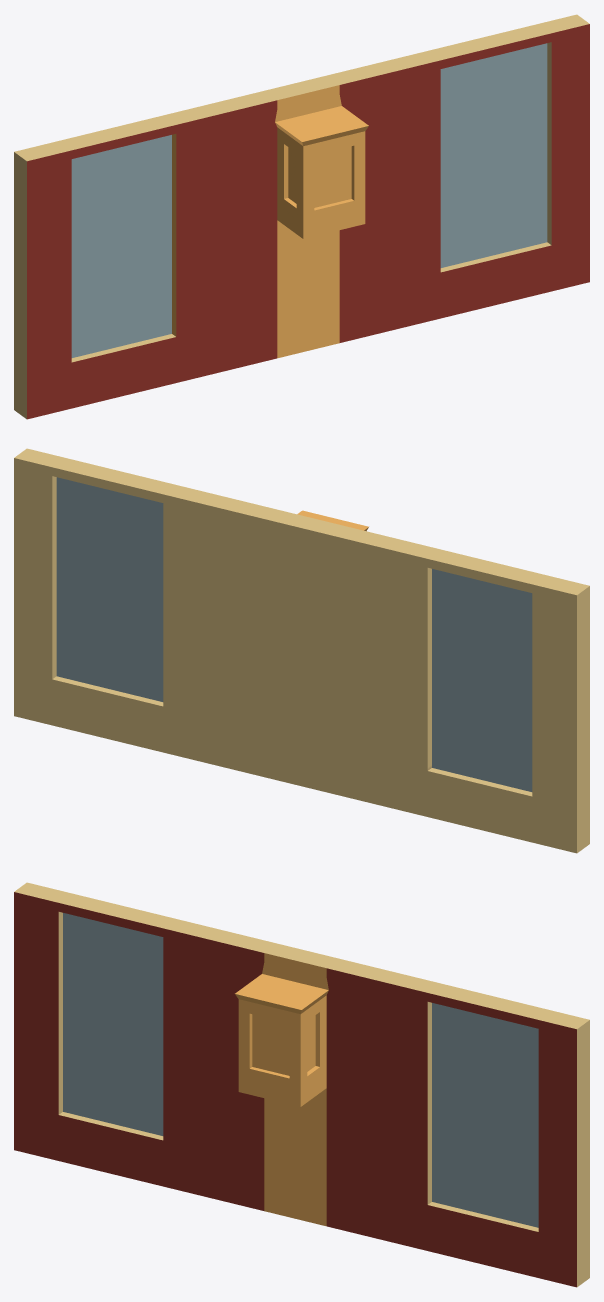
The model's file is GrandChambre_Mur02.fbx.
3 views of the same model, one above another, from view 1: azimuth 30°, elevation 25°; view 2: azimuth 150°, elevation 25°; view 3: azimuth 330°, elevation 25° (orthographic).
Visible parts, largest first — view 1: Mur02; view 2: Mur02; view 3: Mur02.
Boxes of the visible parts, x1=… form: Mur02: x1=14, y1=14, x2=589, y2=419; Mur02: x1=14, y1=448, x2=589, y2=853; Mur02: x1=14, y1=882, x2=589, y2=1287.
Bounding box in the file's own units: 13.57 × 5.94 × 1.68.
